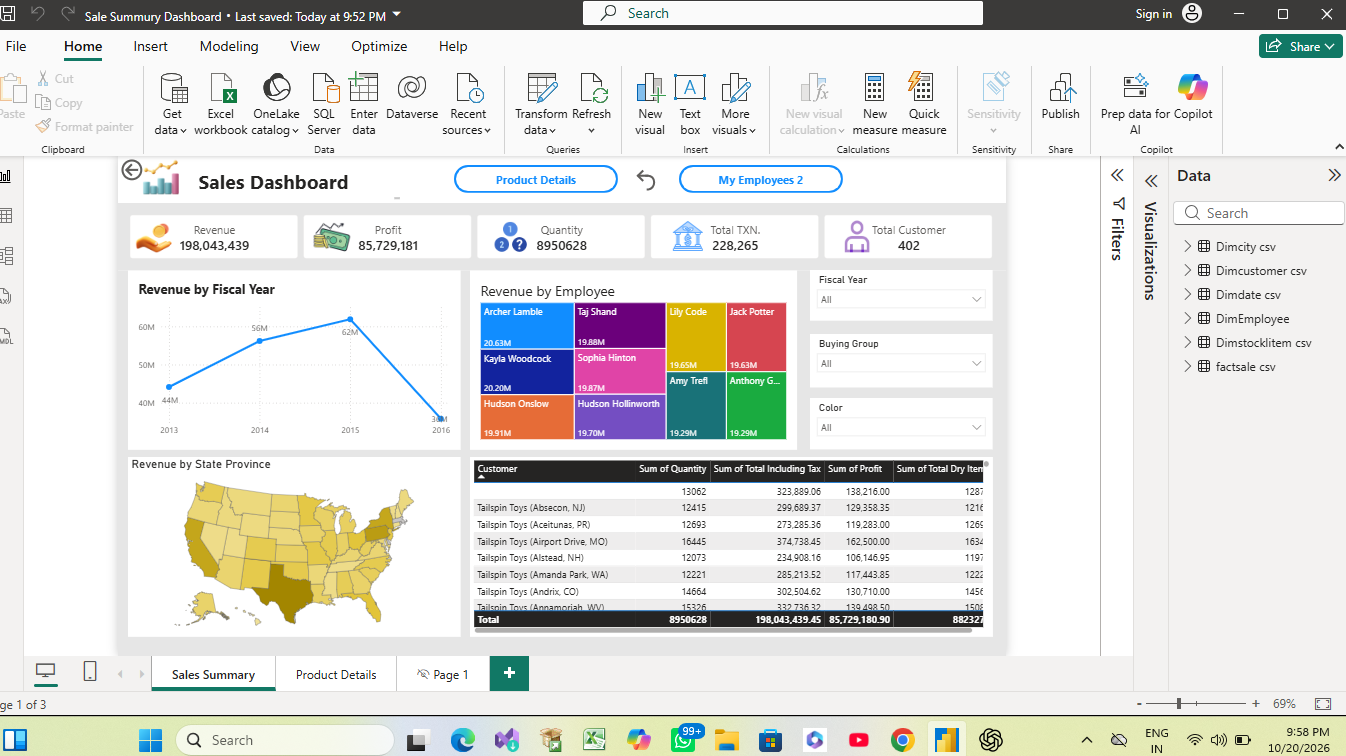

The page's visual inventory and layout, read from the dashboard file:
{"tool":"powerbi","page":{"name":"Sales Summary","canvas":[1280,720],"ordinal":0},"visuals":[{"type":"shape","box":[0,0,1280,67.7],"z":0},{"type":"textbox","title":"Sales Dashboard","box":[111.4,17.1,300,50],"z":1000},{"type":"lineChart","title":"Revenue by Fiscal Year","fields":{"Y":["Sum(factsale csv.Total Including Tax)"],"Category":["Dimdate csv.Fiscal Year"]},"box":[14.3,164.3,478.6,258.6],"z":2000},{"type":"treemap","fields":{"Group":["DimEmployee.Employee"],"Values":["Sum(factsale csv.Total Including Tax)"]},"box":[506.9,164.2,470.9,259.2],"z":3000},{"type":"cardVisual","fields":{"Data":["Sum(factsale csv.Total Including Tax)","Sum(factsale csv.Profit)","Sum(factsale csv.Quantity)","CountNonNull(factsale csv.Sale Key)","CountNonNull(Dimcustomer csv.Customer Key)"]},"box":[0,67.1,1280,97.1],"z":4000},{"type":"image","box":[250,84.3,114.3,62.9],"z":5000},{"type":"image","box":[1027.1,91.4,75.7,48.6],"z":6000},{"type":"image","box":[0,1.4,124.3,64.3],"z":7000},{"type":"image","box":[790,92.9,60,45.7],"z":8000},{"type":"image","box":[14.3,88.6,74.3,54.3],"z":9000},{"type":"image","box":[530,88.6,71.4,52.9],"z":10000},{"type":"slicer","fields":{"Values":["Dimdate csv.Fiscal Year"]},"box":[997.1,164.3,262.9,72.9],"z":11000},{"type":"slicer","fields":{"Values":["Dimcustomer csv.Buying Group"]},"box":[997.1,255.7,262.9,77.1],"z":12000},{"type":"slicer","fields":{"Values":["Dimstocklitem csv.Color"]},"box":[997.1,348.6,262.9,74.3],"z":13000},{"type":"shapeMap","fields":{"Category":["Dimcity csv.State Province"],"Value":["Sum(factsale csv.Total Including Tax)"]},"box":[14,433,479,259],"z":14000},{"type":"tableEx","fields":{"Values":["Dimcustomer csv.Customer","Sum(factsale csv.Quantity)","Sum(factsale csv.Total Including Tax)","Sum(factsale csv.Profit)","Sum(factsale csv.Total Dry Items)"]},"box":[506.9,433.4,753.1,259.2],"z":15000},{"type":"actionButton","box":[483.8,13,236.2,40.3],"z":16000},{"type":"actionButton","box":[0,0,100,40],"z":17000},{"type":"actionButton","box":[740.2,14.4,50.4,40.3],"z":17001},{"type":"actionButton","box":[807.8,13,236.2,40.3],"z":17002}]}

Visuals, with their boxes on the page's 1280x720 design canvas (x1, y1, x2, y2). These are canvas units, not pixel positions in the 1346x756 screenshot, which may show the page scaled, cropped or inside an application window:
shape: bbox(0, 0, 1280, 68)
"Sales Dashboard" textbox: bbox(111, 17, 411, 67)
"Revenue by Fiscal Year" lineChart: bbox(14, 164, 493, 423)
treemap - DimEmployee.Employee x Sum(factsale csv.Total Including Tax): bbox(507, 164, 978, 423)
cardVisual - Sum(factsale csv.Total Including Tax) x Sum(factsale csv.Profit): bbox(0, 67, 1280, 164)
image: bbox(250, 84, 364, 147)
image: bbox(1027, 91, 1103, 140)
image: bbox(0, 1, 124, 66)
image: bbox(790, 93, 850, 139)
image: bbox(14, 89, 89, 143)
image: bbox(530, 89, 601, 142)
slicer - Dimdate csv.Fiscal Year: bbox(997, 164, 1260, 237)
slicer - Dimcustomer csv.Buying Group: bbox(997, 256, 1260, 333)
slicer - Dimstocklitem csv.Color: bbox(997, 349, 1260, 423)
shapeMap - Dimcity csv.State Province x Sum(factsale csv.Total Including Tax): bbox(14, 433, 493, 692)
tableEx - Dimcustomer csv.Customer x Sum(factsale csv.Quantity): bbox(507, 433, 1260, 693)
actionButton: bbox(484, 13, 720, 53)
actionButton: bbox(0, 0, 100, 40)
actionButton: bbox(740, 14, 791, 55)
actionButton: bbox(808, 13, 1044, 53)
